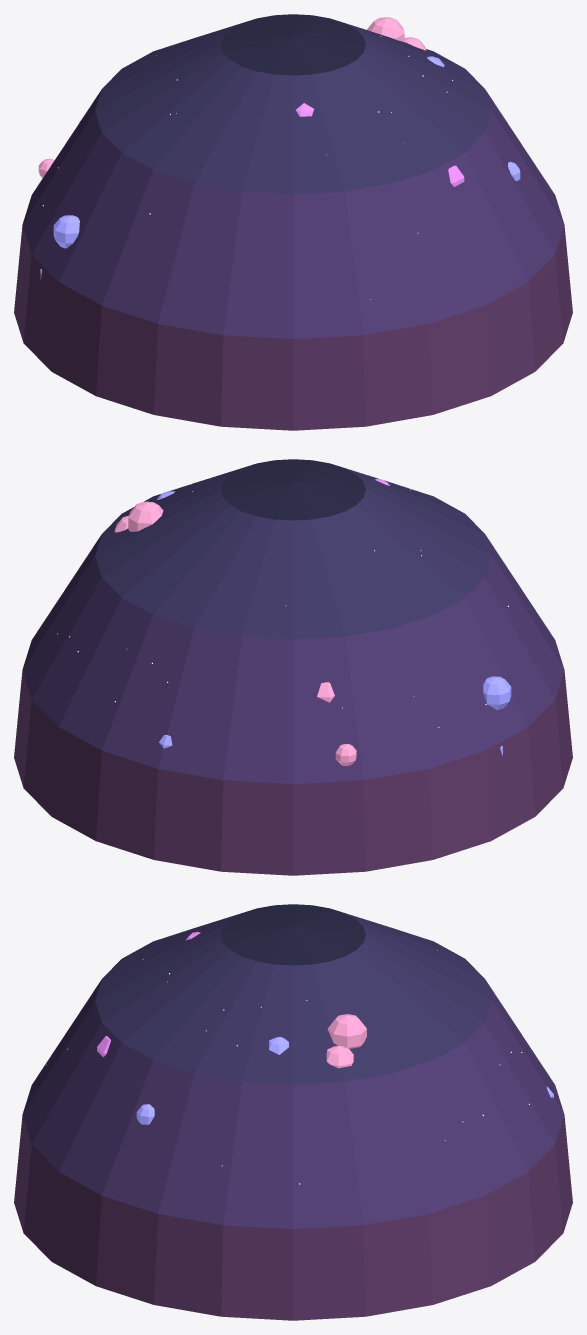
Rendered from sky_nebula_night.glb.
The picture shows the model from 3 angles, top to bottom: view 1: azimuth 30°, elevation 25°; view 2: azimuth 150°, elevation 25°; view 3: azimuth 270°, elevation 25°; orthographic projection.
Parts seen in each view (by area): view 1: skyband1, skyband0, skyband2, skyband3, cloud1, cloud2; view 2: skyband1, skyband0, skyband2, skyband3, cloud2, cloud1; view 3: skyband1, skyband0, skyband2, skyband3, cloud2, cloud1.
Part boxes in pixels (x1,y1,x2,y2): skyband1: (22,90,564,339); skyband0: (14,225,572,430); skyband2: (95,23,491,194); skyband3: (221,14,365,75); cloud1: (40,56,520,279); cloud2: (38,17,426,178); skyband1: (22,535,564,784); skyband0: (14,670,572,875); skyband2: (95,468,491,639); skyband3: (221,459,365,520); cloud2: (114,501,356,765); cloud1: (157,491,511,755); skyband1: (22,980,564,1229); skyband0: (14,1115,572,1320); skyband2: (95,913,491,1084); skyband3: (221,904,365,965); cloud2: (326,1014,366,1068); cloud1: (136,1037,553,1124).
Size of the model in its own units: 179 by 97.84 by 179.
